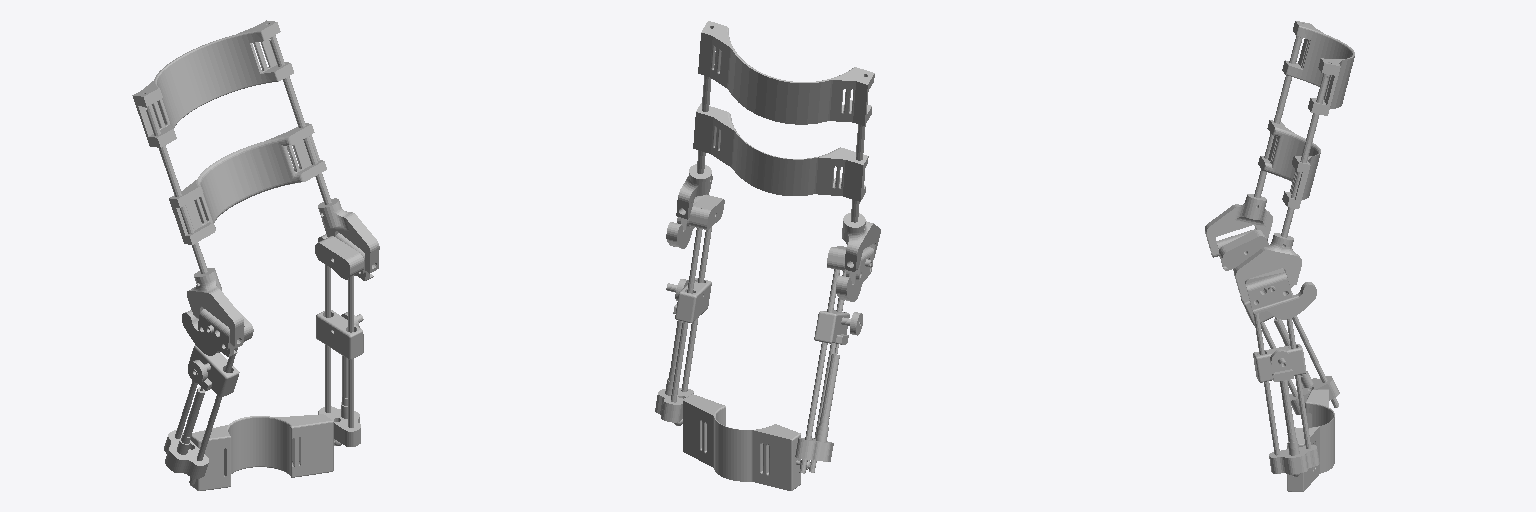
The robot description file, URDF, robot "brace_urdf":
<?xml version="1.0" encoding="utf-8"?>
<!-- This URDF was automatically created by SolidWorks to URDF Exporter! Originally created by [author] ([email redacted]) 
     Commit Version: 1.6.0-4-g7f85cfe  Build Version: 1.6.7995.38578
     For more information, please see http://wiki.ros.org/sw_urdf_exporter -->
<robot
  name="brace_urdf">
  <link
    name="base_link">
    <inertial>
      <origin
        xyz="-0.000700342393179829 -0.0435124830425221 0.12853835112289"
        rpy="0 0 0" />
      <mass
        value="0.662905358417652" />
      <inertia
        ixx="0.000781812083402016"
        ixy="0.000217854278375065"
        ixz="1.63119429046783E-05"
        iyy="0.00165951411646135"
        iyz="0.000101142649428765"
        izz="0.00127566173333875" />
    </inertial>
    <visual>
      <origin
        xyz="0 0 0"
        rpy="0 0 0" />
      <geometry>
        <mesh
          filename="package://brace_urdf/meshes/base_link.STL" />
      </geometry>
      <material
        name="">
        <color
          rgba="0.752941176470588 0.752941176470588 0.752941176470588 1" />
      </material>
    </visual>
    <collision>
      <origin
        xyz="0 0 0"
        rpy="0 0 0" />
      <geometry>
        <mesh
          filename="package://brace_urdf/meshes/base_link.STL" />
      </geometry>
    </collision>
  </link>
  <link
    name="link1">
    <inertial>
      <origin
        xyz="0.121476017398639 0.092402477278282 0.104260400695861"
        rpy="0 0 0" />
      <mass
        value="0.53804717228036" />
      <inertia
        ixx="0.000603842641665567"
        ixy="-1.51665676710393E-05"
        ixz="-0.000161680089194202"
        iyy="0.0019529417911791"
        iyz="-0.000111171223230596"
        izz="0.00199613547347201" />
    </inertial>
    <visual>
      <origin
        xyz="0 0 0"
        rpy="0 0 0" />
      <geometry>
        <mesh
          filename="package://brace_urdf/meshes/link1.STL" />
      </geometry>
      <material
        name="">
        <color
          rgba="0.752941176470588 0.752941176470588 0.752941176470588 1" />
      </material>
    </visual>
    <collision>
      <origin
        xyz="0 0 0"
        rpy="0 0 0" />
      <geometry>
        <mesh
          filename="package://brace_urdf/meshes/link1.STL" />
      </geometry>
    </collision>
  </link>
  <joint
    name="joint1"
    type="revolute">
    <origin
      xyz="-0.13791 -0.118 0.28828"
      rpy="0.39932 -0.054387 0.2067" />
    <parent
      link="base_link" />
    <child
      link="link1" />
    <axis
      xyz="1 0 0" />
    <limit
      lower="0"
      upper="0"
      effort="0"
      velocity="0" />
  </joint>
  <link
    name="link2">
    <inertial>
      <origin
        xyz="-0.141440951471399 0.0625810783308018 0.104915859649969"
        rpy="0 0 0" />
      <mass
        value="0.53804717228036" />
      <inertia
        ixx="0.000590138622110953"
        ixy="1.51341964581751E-05"
        ixz="-8.53119545689772E-05"
        iyy="0.0020151652012535"
        iyz="-0.000107810719897529"
        izz="0.00194761608295223" />
    </inertial>
    <visual>
      <origin
        xyz="0 0 0"
        rpy="0 0 0" />
      <geometry>
        <mesh
          filename="package://brace_urdf/meshes/link2.STL" />
      </geometry>
      <material
        name="">
        <color
          rgba="0.752941176470588 0.752941176470588 0.752941176470588 1" />
      </material>
    </visual>
    <collision>
      <origin
        xyz="0 0 0"
        rpy="0 0 0" />
      <geometry>
        <mesh
          filename="package://brace_urdf/meshes/link2.STL" />
      </geometry>
    </collision>
  </link>
  <joint
    name="joint2"
    type="revolute">
    <origin
      xyz="0.12393 -0.069916 0.3308"
      rpy="0.12229 -0.10798 0.19385" />
    <parent
      link="base_link" />
    <child
      link="link2" />
    <axis
      xyz="-1 0 0" />
    <limit
      lower="0"
      upper="0"
      effort="0"
      velocity="0" />
  </joint>
</robot>

--- Render facts (derived) ---
3 views of the same robot in one strip: view 1: azimuth 30°, elevation 25°; view 2: azimuth 150°, elevation 25°; view 3: azimuth 270°, elevation 25° (orthographic).
Robot: brace_urdf — 3 links, 2 joints (2 revolute); root link base_link; default pose: every joint at zero.
Links seen in each view (by area): view 1: link2, base_link, link1; view 2: base_link, link1, link2; view 3: link1, base_link, link2.
Boxes of the visible links, box(x1,y1,x2,y2) form: link2: box(132, 20, 379, 356); base_link: box(164, 236, 363, 490); link1: box(151, 35, 372, 290); base_link: box(655, 195, 871, 490); link1: box(666, 26, 875, 301); link2: box(667, 21, 880, 301); link1: box(1207, 23, 1354, 319); base_link: box(1219, 230, 1339, 491); link2: box(1205, 21, 1354, 312).
Size in the robot's own frame: 0.3323 by 0.2154 by 0.65 metres.
Meshes: 3 distinct files referenced, 3 mesh visuals loaded (3 binary STL).
